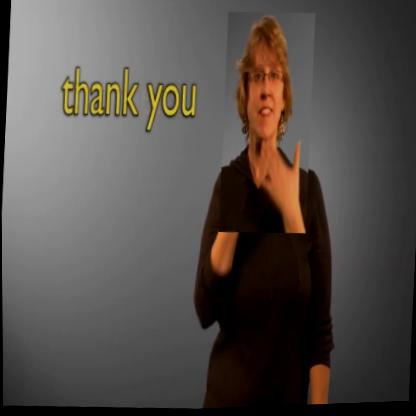ThankYou: (216, 11, 316, 238)
